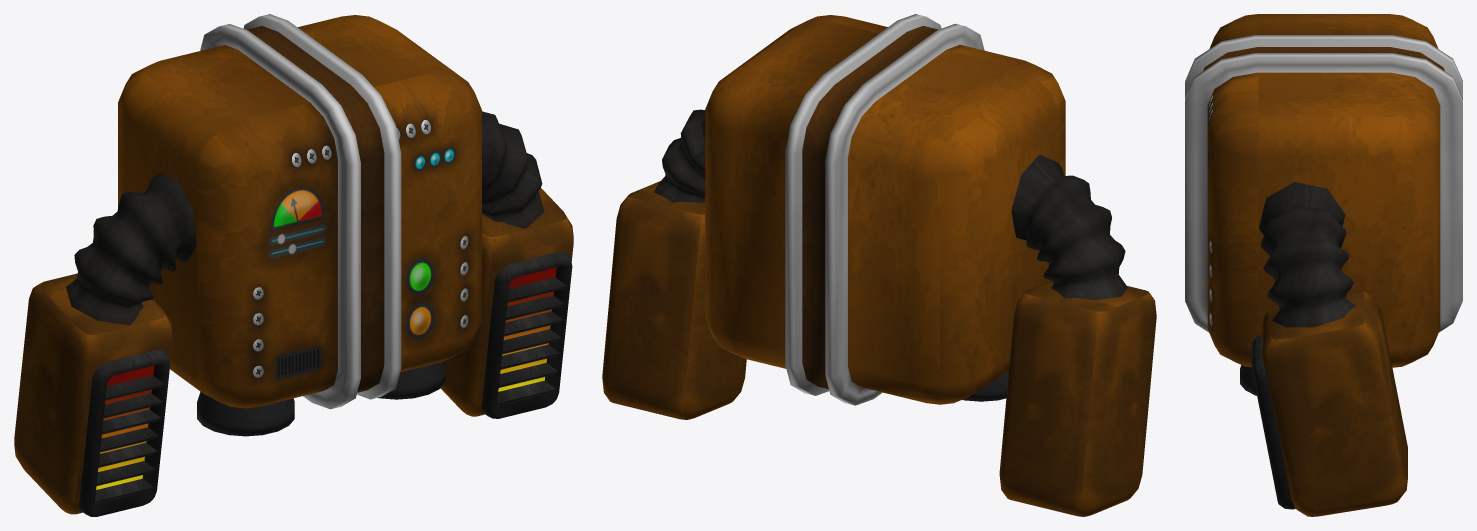
The model's file is propulsor0.FBX.
3 views of the same model, side by side, from view 1: azimuth 30°, elevation 25°; view 2: azimuth 150°, elevation 25°; view 3: azimuth 270°, elevation 25° (orthographic). The views are drawn at different scales.
Parts seen in each view (by area): view 1: ChamferBox005; view 2: ChamferBox005; view 3: ChamferBox005.
Boxes of the visible parts, x1,y1,x2,y2 form: ChamferBox005: [14, 14, 573, 516]; ChamferBox005: [602, 14, 1156, 516]; ChamferBox005: [1185, 14, 1462, 516].
Size of the model in its own units: 46.05 by 35.05 by 24.19.
